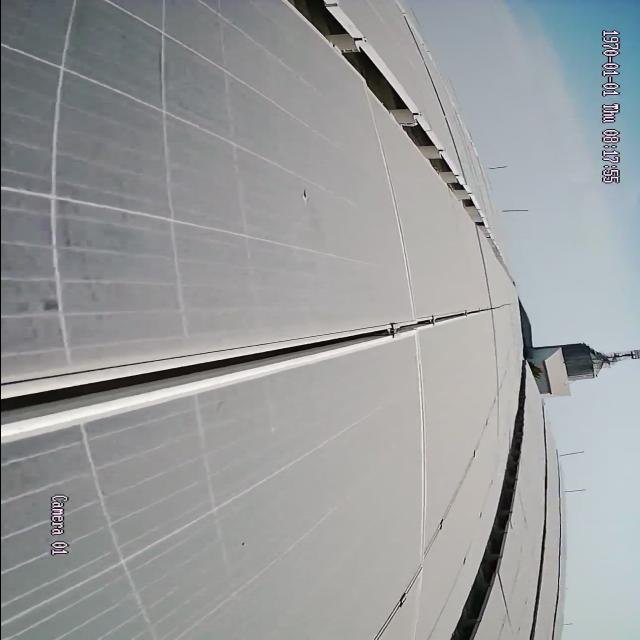interior panel: (5, 306, 499, 443), (372, 127, 419, 299), (405, 354, 433, 549)
outher panel: (284, 1, 499, 238), (446, 407, 525, 640)
